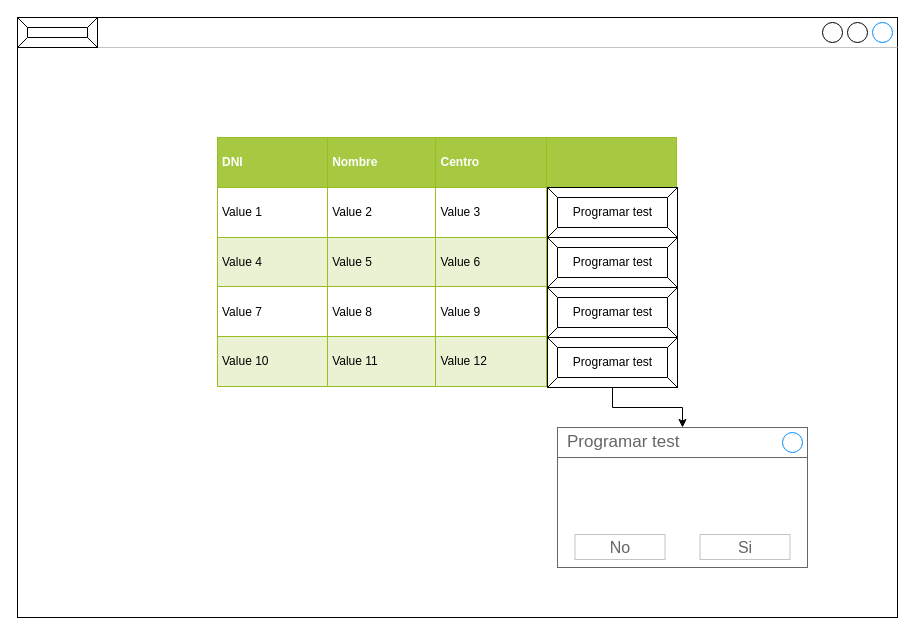
The diagram is 915 pixels wide and 635 high, and some of its shapes have lost their labels. Here are the shapes that lost their labels. From the top down, the centre of each, then its label:
point 57,32: Menu icon
point 682,497: Estas seguro que quieres programar un test de la marcha para "Nombre paciente"
